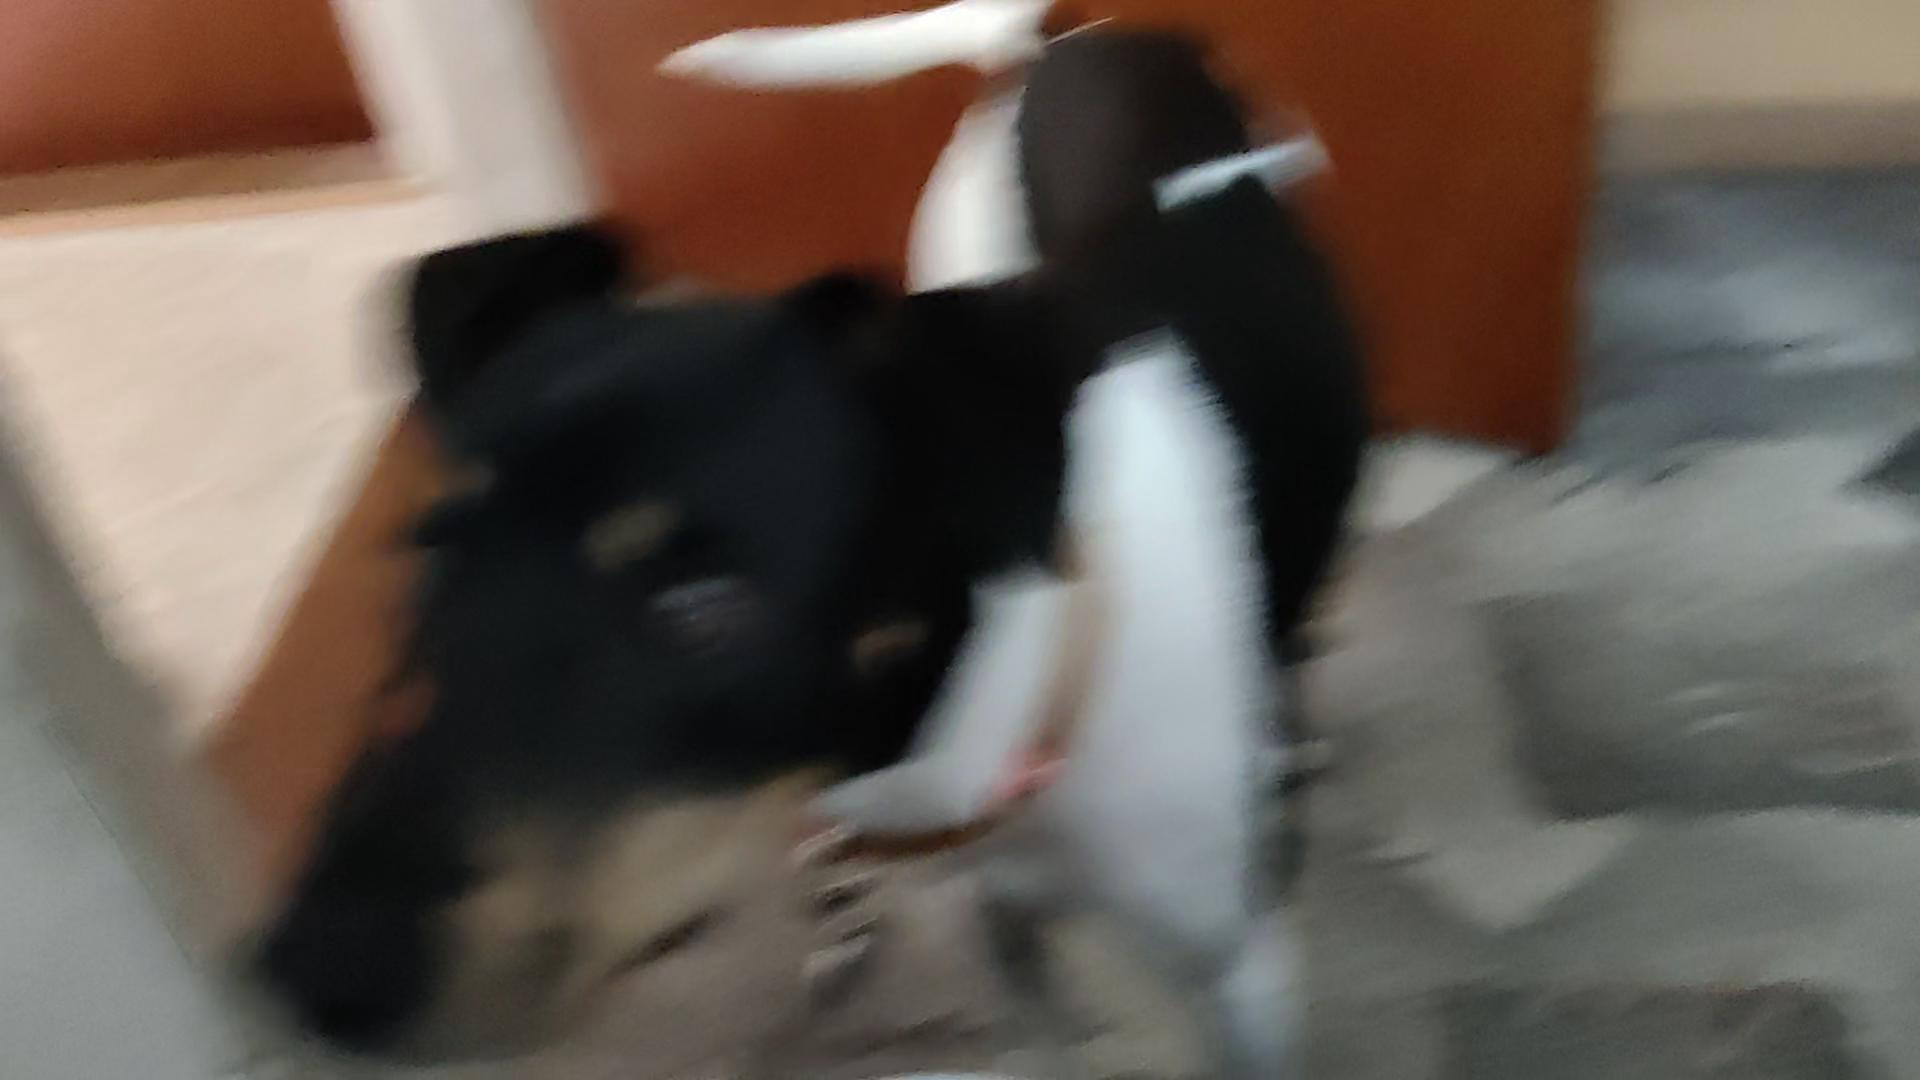Dog: (229, 0, 1389, 1079)
